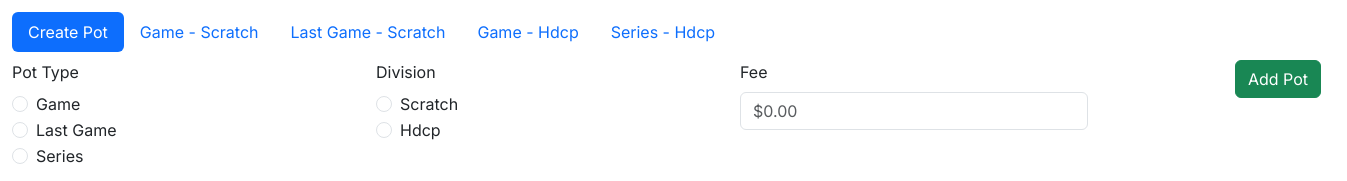
Test: ZeroToNPots - Component › render the component › render the 2nd pot › render the pot type value
Click the tab "Last Game - Scratch" at (368, 32), box [274, 12, 461, 52]
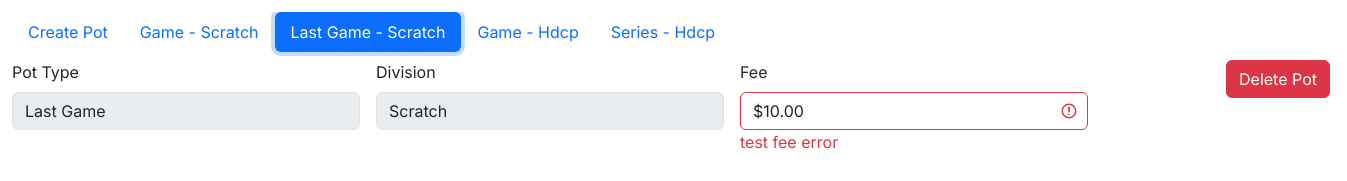
Expected: the number of fields labelled "pot type" is 4
Expected: the field labelled "Pot Type" holds "Last Game", [12, 92, 360, 130]
Expected: the field labelled "Pot Type" is disabled, [12, 92, 360, 130]
